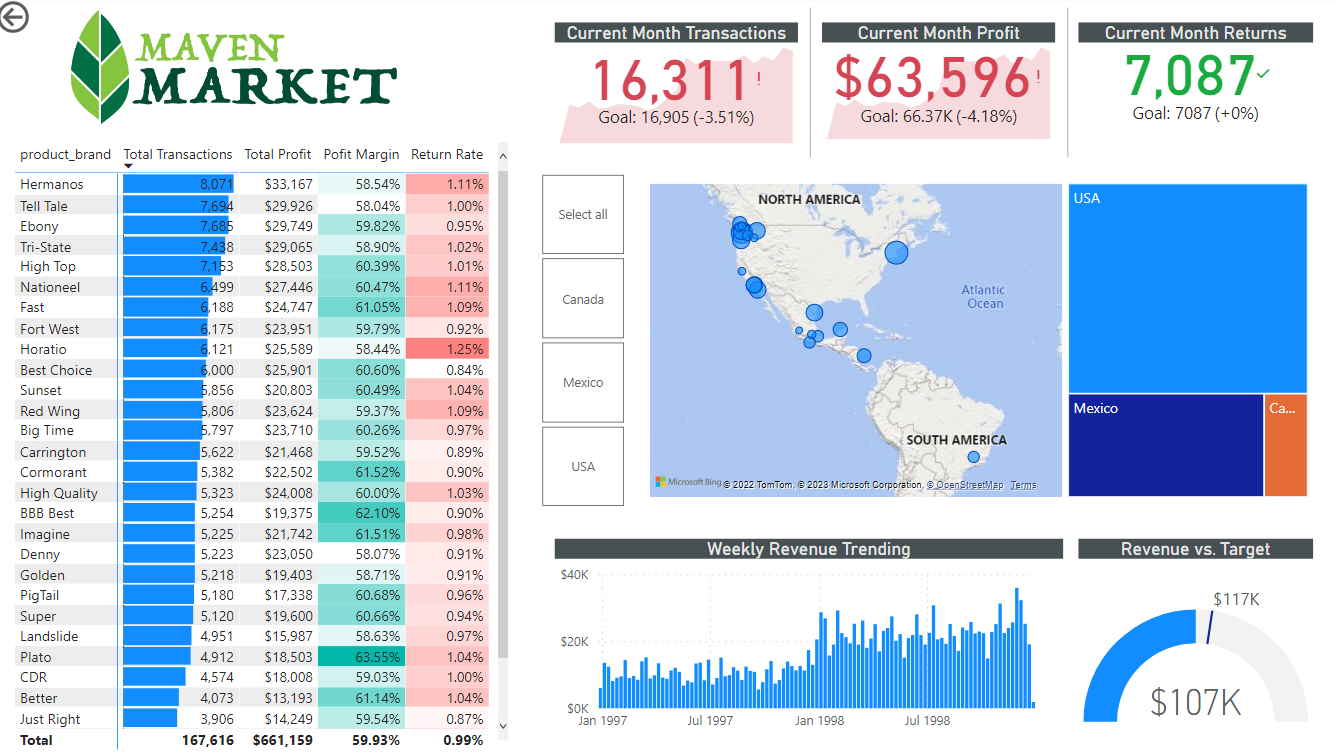

The dashboard page shown, as its layout file describes it:
{"tool":"powerbi","page":{"name":"Topline Performance","canvas":[1280,720],"ordinal":0},"visuals":[{"type":"image","box":[16.6,0,422.6,134.1],"z":0},{"type":"pivotTable","fields":{"Values":["Transaction_Data.Total Transactions","Transaction_Data.Total Profit","Transaction_Data.Pofit Margin","Return_Data.Return Rate"],"Rows":["Products.product_brand"]},"box":[16.6,134.1,478.3,586.4],"z":1000},{"type":"kpi","title":"Current Month Transactions","fields":{"Indicator":["Transaction_Data.Total Transactions"],"TrendLine":["Calendar.Start of Month"],"Goal":["Transaction_Data.Last Month Transactions"]},"box":[534.1,24.9,231.5,119.9],"z":2000},{"type":"kpi","title":"Current Month Profit","fields":{"TrendLine":["Calendar.Start of Month"],"Indicator":["Transaction_Data.Total Profit"],"Goal":["Transaction_Data.Last Month Profit"]},"box":[787.5,24.9,222,116.3],"z":3000},{"type":"kpi","title":"Current Month Returns","fields":{"TrendLine":["Calendar.Start of Month"],"Indicator":["Return_Data.Total Returns"],"Goal":["Return_Data.Last Month Returns"]},"box":[1031.5,24.9,223.1,111.6],"z":4000},{"type":"map","fields":{"Size":["Transaction_Data.Total Transactions"],"Category":["Stores.store_city"]},"box":[619.6,173.3,402.4,307.4],"z":5000},{"type":"slicer","fields":{"Values":["Stores.store_country"]},"box":[496.1,162.6,128.2,328.8],"z":6000},{"type":"treemap","fields":{"Values":["CountNonNull(Transaction_Data.transaction_date)"],"Group":["Stores.store_country","Stores.store_state","Stores.store_city"]},"box":[1017.2,173.3,237.4,307.4],"z":7000},{"type":"columnChart","title":"Weekly Revenue Trending","fields":{"Category":["Calendar.Start of Week"],"Y":["Transaction_Data.Total Revenue"]},"box":[534.1,515.1,483.1,192.3],"z":8000},{"type":"gauge","title":"Revenue vs. Target","fields":{"Y":["Transaction_Data.Total Revenue"],"TargetValue":["Transaction_Data.Revenue Target"]},"box":[1031.5,515.1,223.1,192.3],"z":9000},{"type":"basicShape","box":[987.5,1.8,67.7,161.4],"z":10000},{"type":"basicShape","box":[743,1.8,67.7,161.4],"z":11000},{"type":"actionButton","box":[0,0,100,40],"z":12000}]}

Visuals, with their boxes in screenshot pixels (x1, y1, x2, y2), scaled from the page's 1280x720 canvas onto the 1337x752 screenshot:
image: box=[17, 0, 459, 140]
pivotTable - Transaction_Data.Total Transactions x Transaction_Data.Total Profit: box=[17, 140, 517, 751]
"Current Month Transactions" kpi: box=[558, 26, 800, 151]
"Current Month Profit" kpi: box=[823, 26, 1054, 147]
"Current Month Returns" kpi: box=[1077, 26, 1310, 143]
map - Transaction_Data.Total Transactions x Stores.store_city: box=[647, 181, 1068, 502]
slicer - Stores.store_country: box=[518, 170, 652, 513]
treemap - CountNonNull(Transaction_Data.transaction_date) x Stores.store_country: box=[1062, 181, 1310, 502]
"Weekly Revenue Trending" columnChart: box=[558, 538, 1062, 739]
"Revenue vs. Target" gauge: box=[1077, 538, 1310, 739]
basicShape: box=[1031, 2, 1102, 170]
basicShape: box=[776, 2, 847, 170]
actionButton: box=[0, 0, 104, 42]
